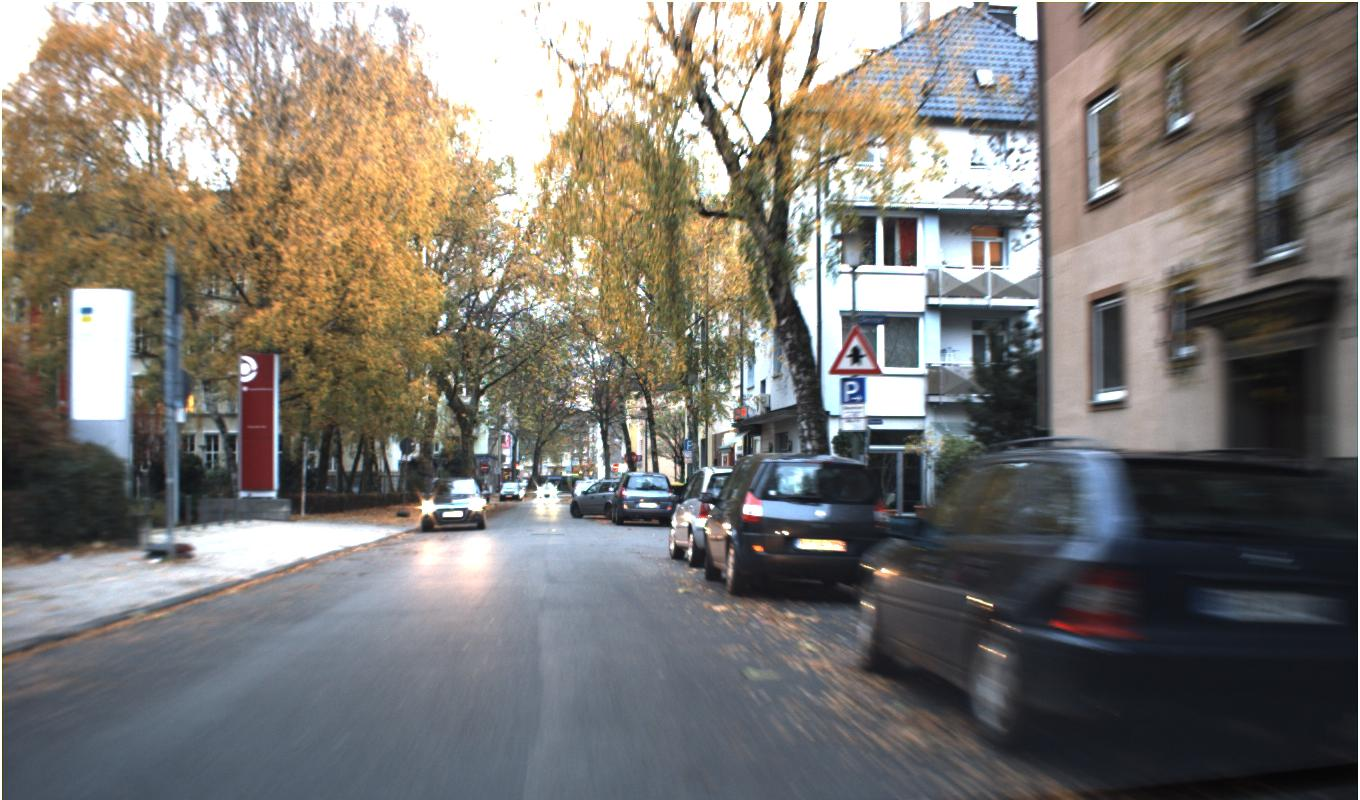danger: (826, 322, 882, 374)
